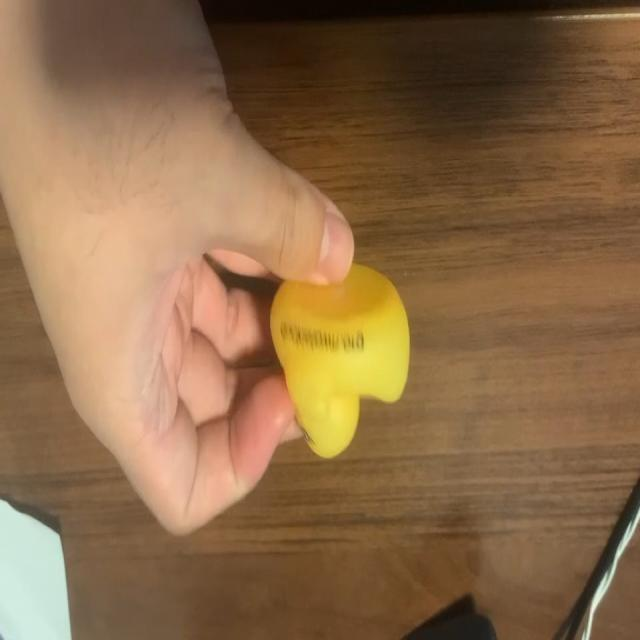rubber-duck: (270, 263, 408, 456)
